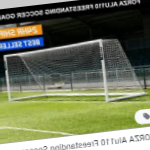goals: (3, 38, 150, 105)
